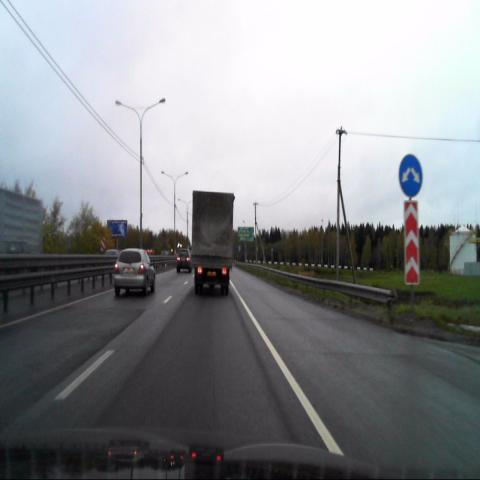4_2_3: (398, 155, 422, 197)
